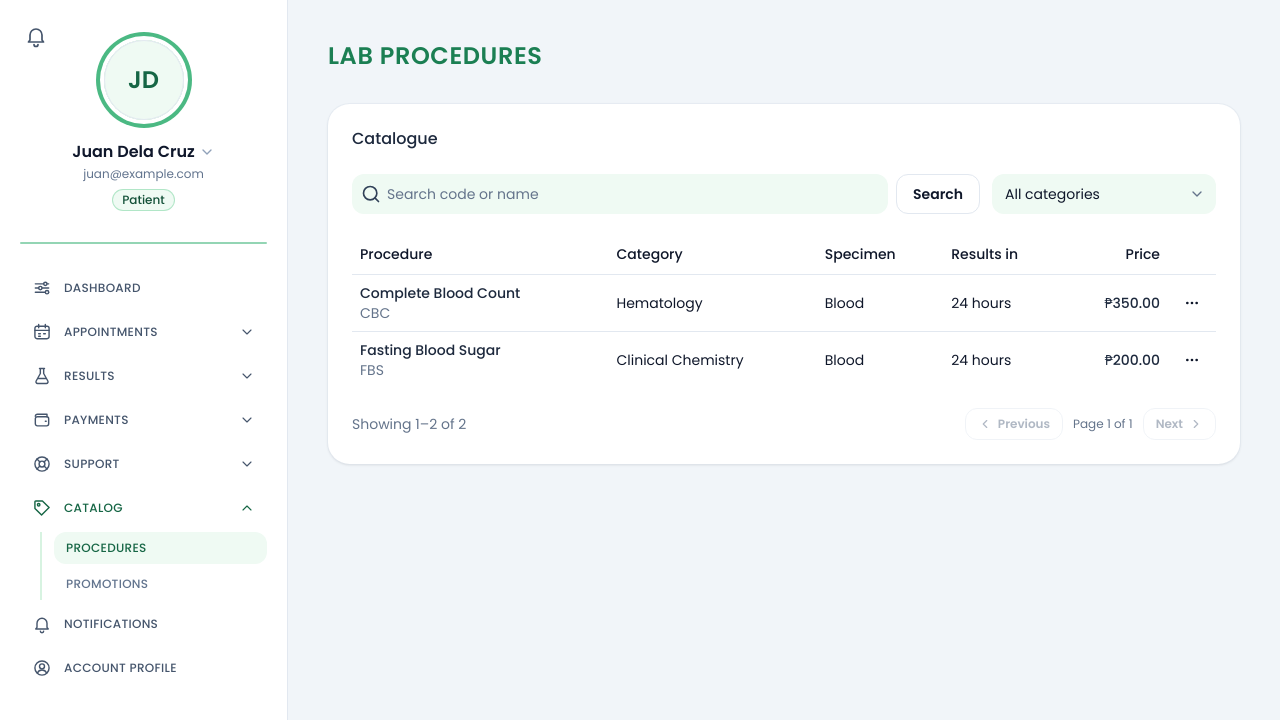
ProceduresPage › filters by category and search
Check: the text "Complete Blood Count" is shown, box [360, 282, 520, 302]
Type "sugar" into the search field with placeholder "Search code or name".
click(634, 194); type("sugar")  # box [381, 175, 887, 213]
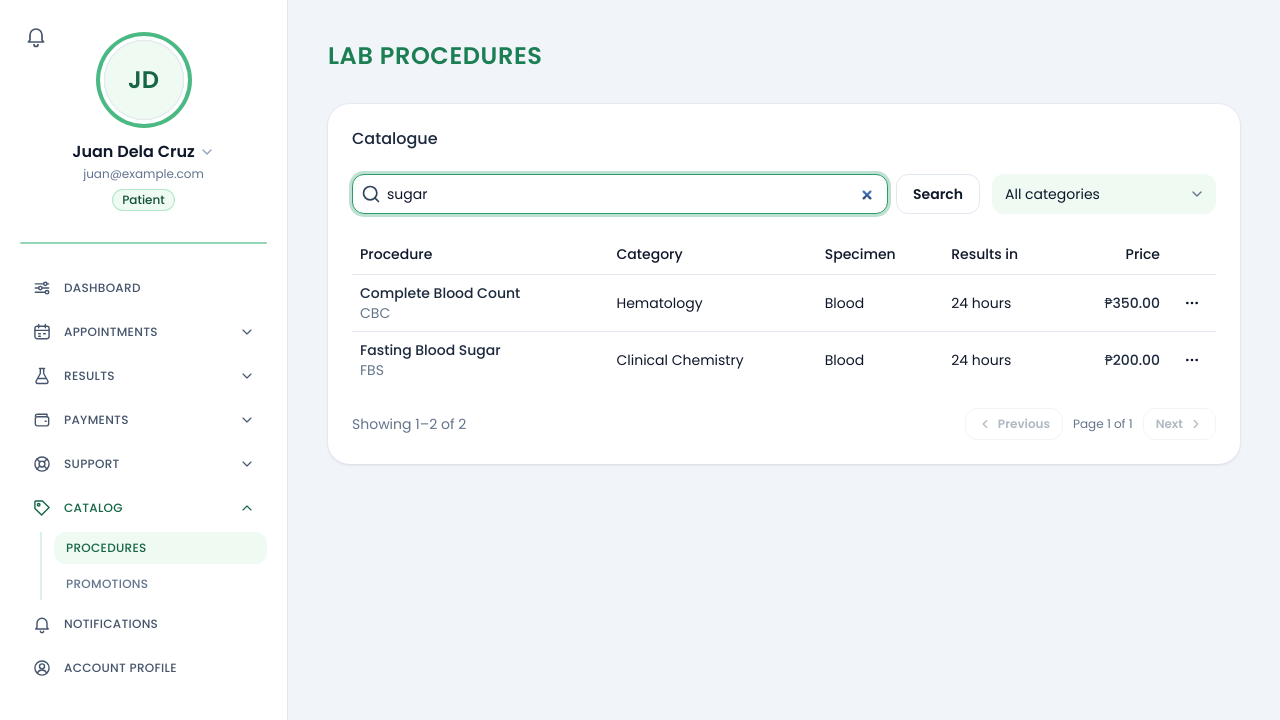
Click the button "Search".
click(938, 194)  # box [896, 174, 980, 214]
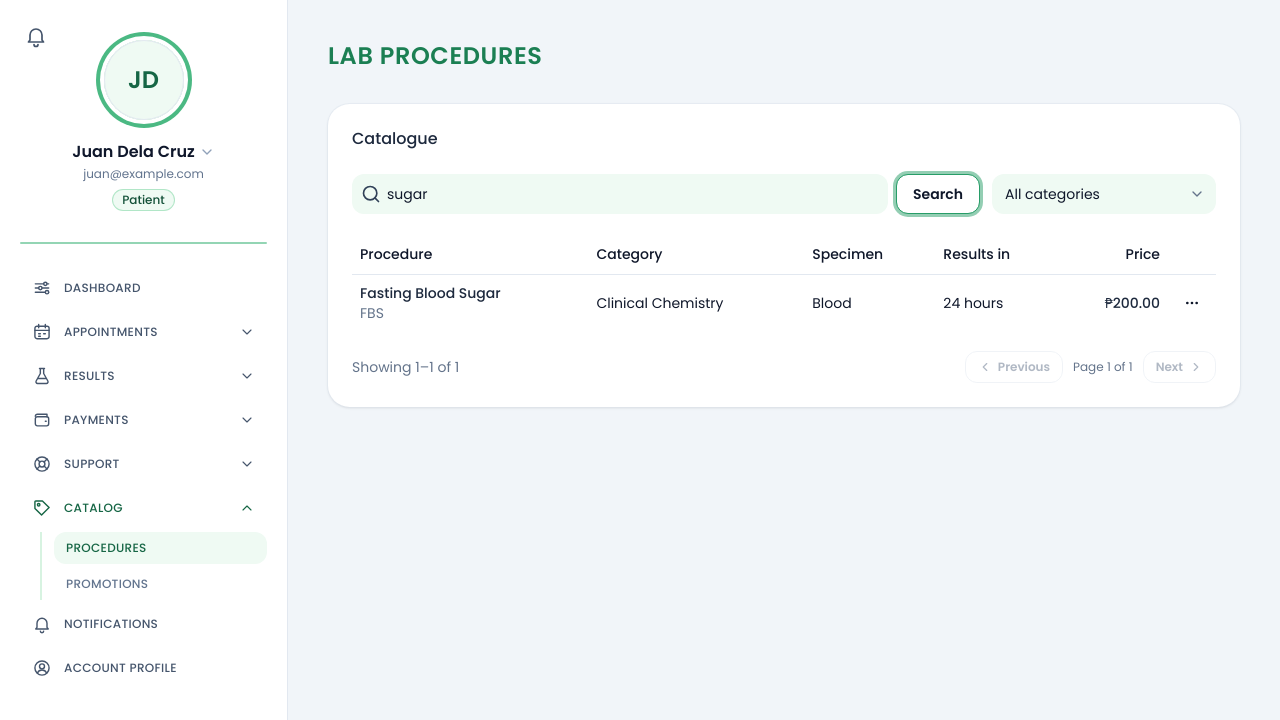
Check: the text "Fasting Blood Sugar" is shown, box [360, 282, 501, 302]
Check: the text "Complete Blood Count" is gone
